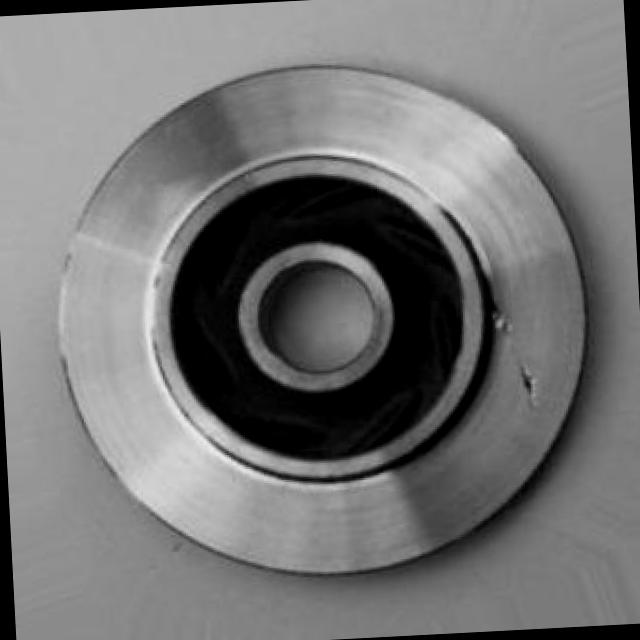Defect: (513, 362, 548, 401)
